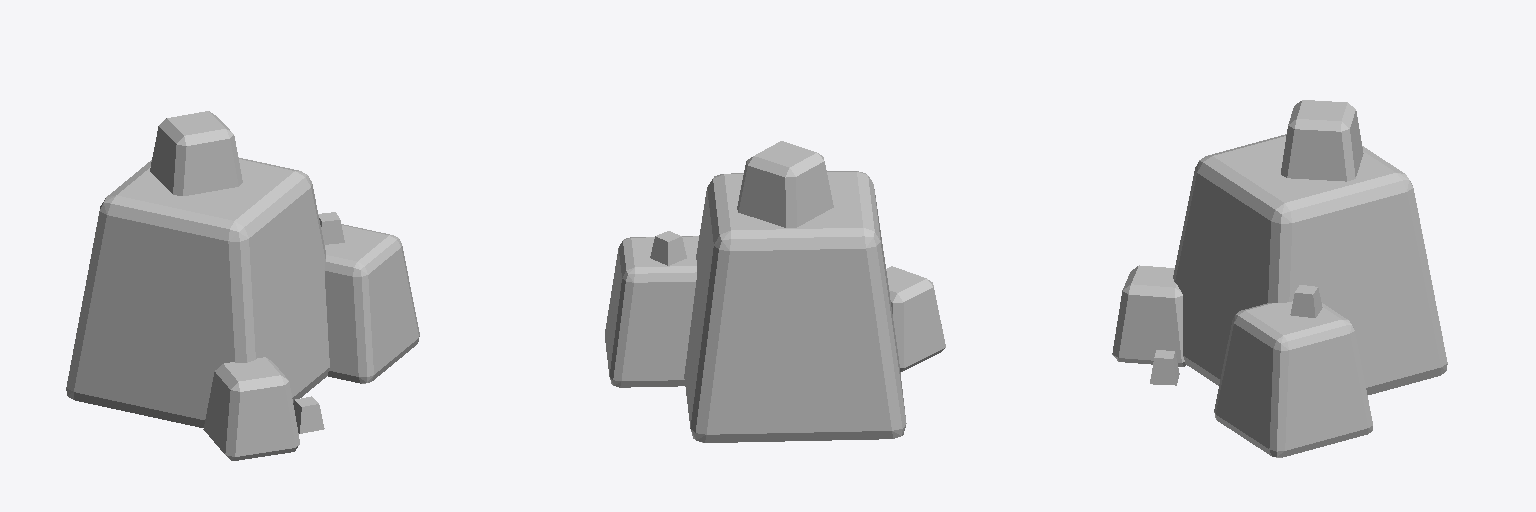
File: Rock_2_H_Color1.obj
The picture shows the model from 3 angles: view 1: azimuth 30°, elevation 25°; view 2: azimuth 150°, elevation 25°; view 3: azimuth 270°, elevation 25°; orthographic projection.
Parts seen in each view (by area): view 1: Rock_2_H_Color1; view 2: Rock_2_H_Color1; view 3: Rock_2_H_Color1.
Boxes of the visible parts, x1=… form: Rock_2_H_Color1: x1=66, y1=111, x2=419, y2=460; Rock_2_H_Color1: x1=605, y1=141, x2=945, y2=442; Rock_2_H_Color1: x1=1112, y1=100, x2=1447, y2=457.
Size of the model in its own units: 3.7 by 2.76 by 3.31.